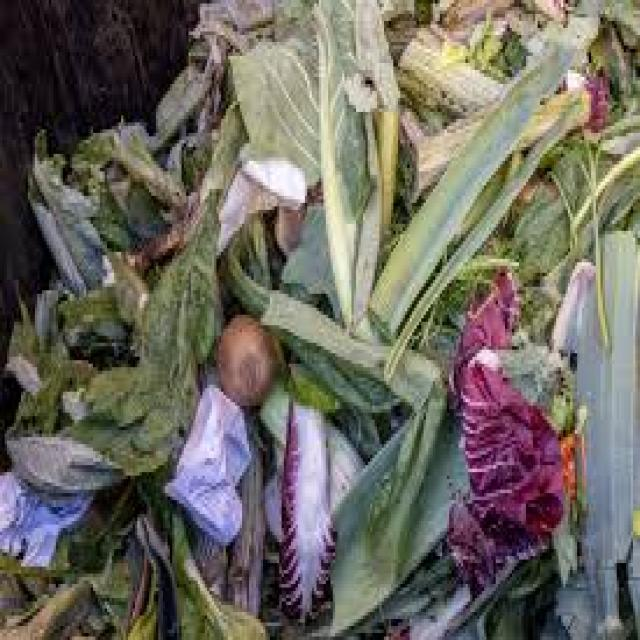Wet: (2, 10, 640, 640), (181, 0, 640, 405), (421, 230, 599, 640), (187, 240, 310, 468)
